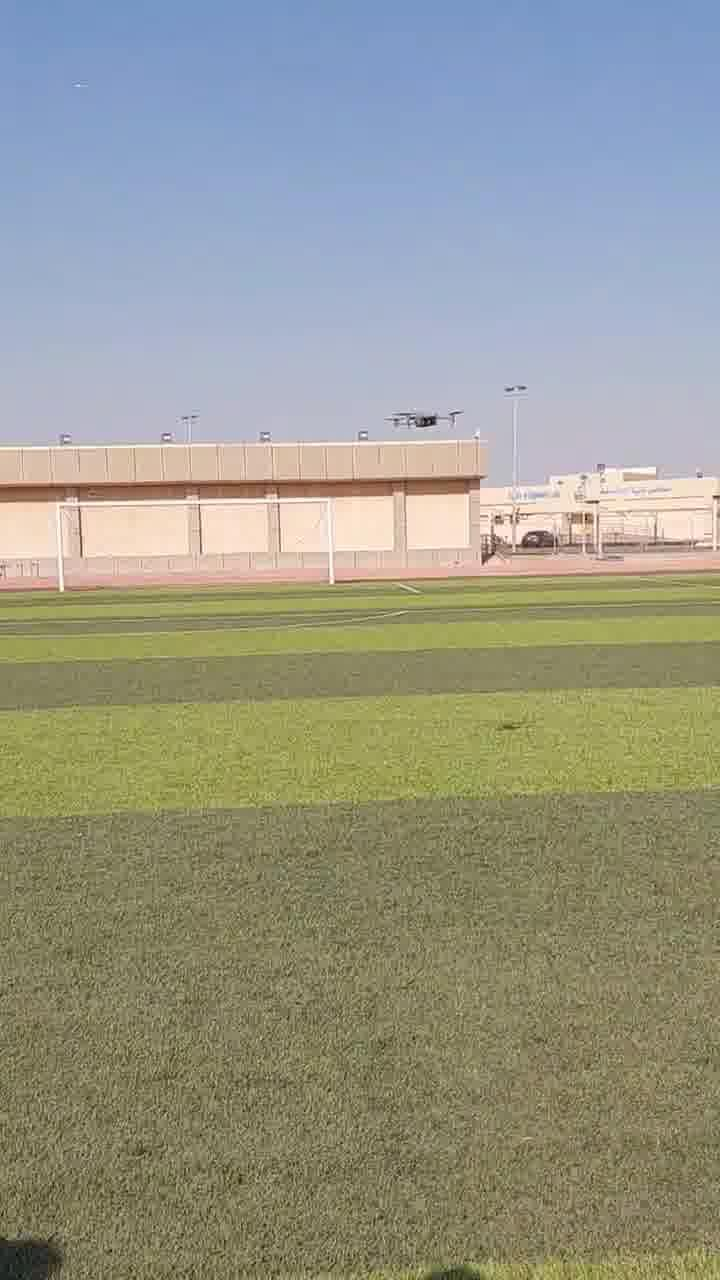drone: (381, 396, 476, 450)
